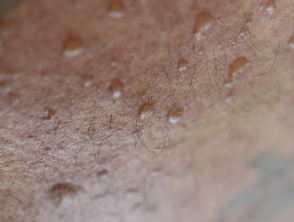SJS-TEN: (33, 0, 294, 222)
